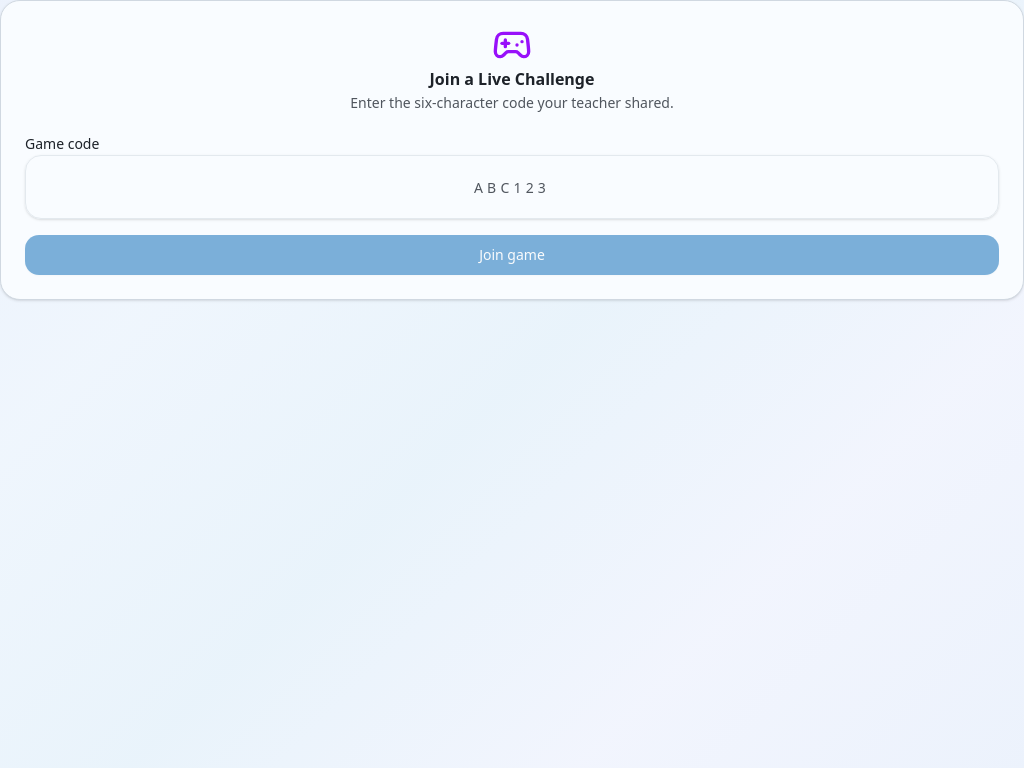
Test: JoinGameForm › keeps the button disabled until a full six-character code is entered
The width and height of the screenshot is (1024, 768).
Expected: the button "Join game" is disabled, [25,235,999,275]
Type "u886y" into the field labelled "Game code".
click(512, 187); type("u886y")  # box [25,155,999,219]
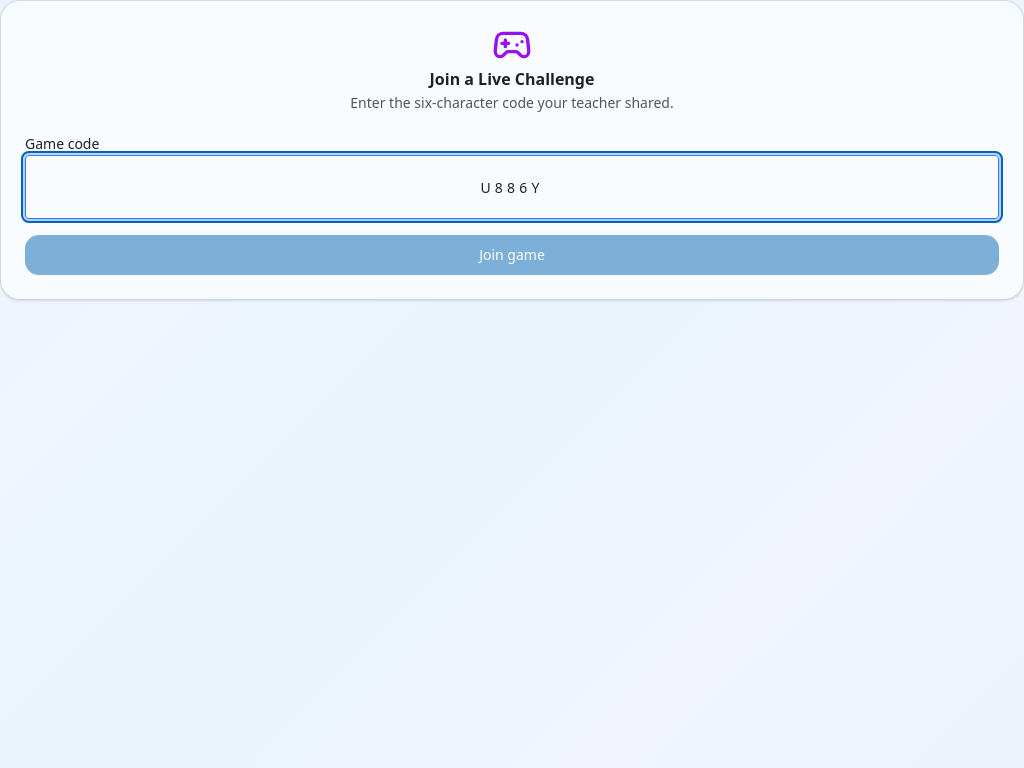
Expected: the button "Join game" is disabled, [25,235,999,275]
Type "v" into the field labelled "Game code".
click(512, 187); type("v")  # box [25,155,999,219]
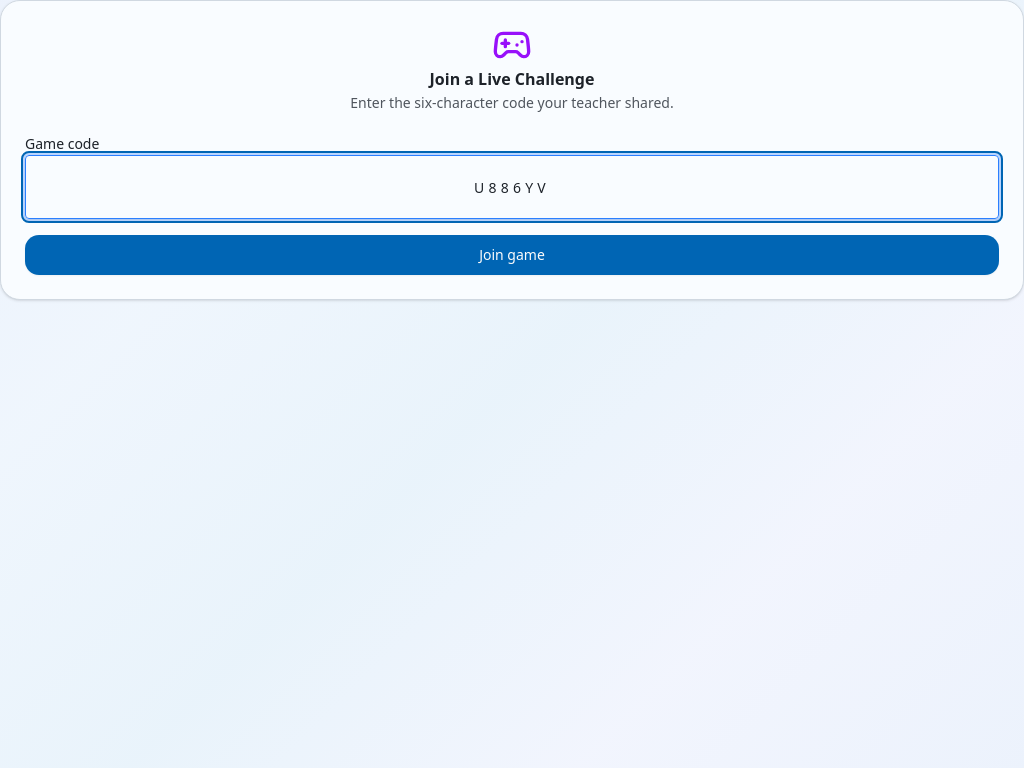
Expected: the button "Join game" is enabled, [25,235,999,275]
